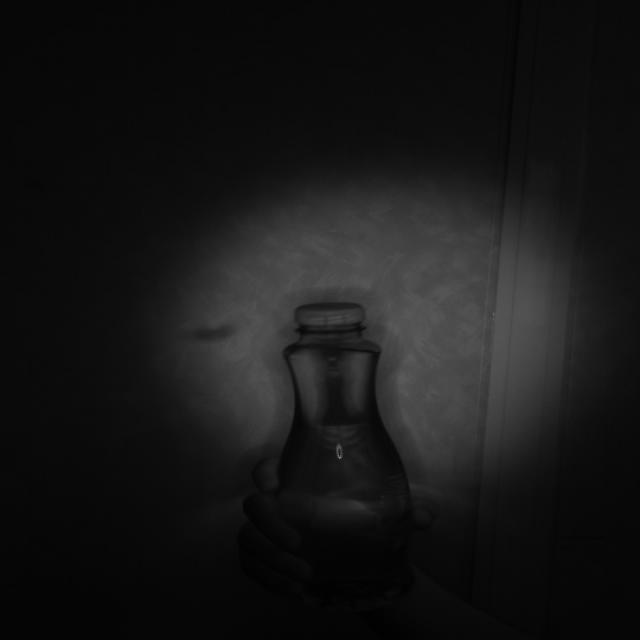Not Good: (292, 301, 369, 337)
